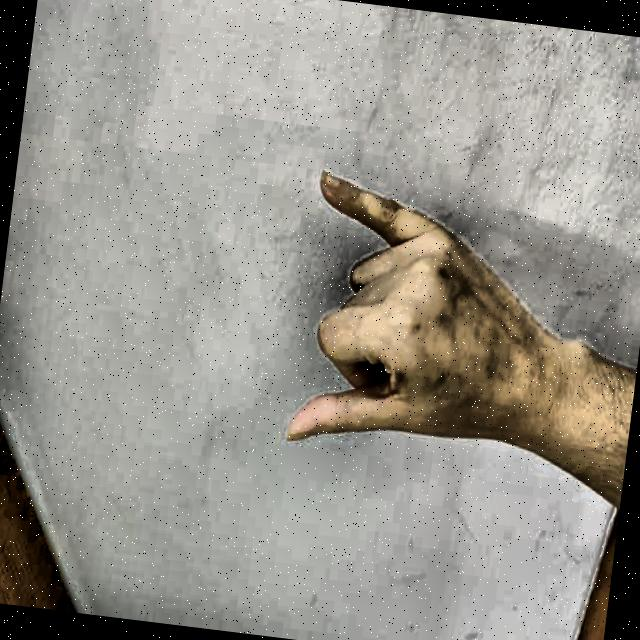Oi: (238, 124, 578, 506)
